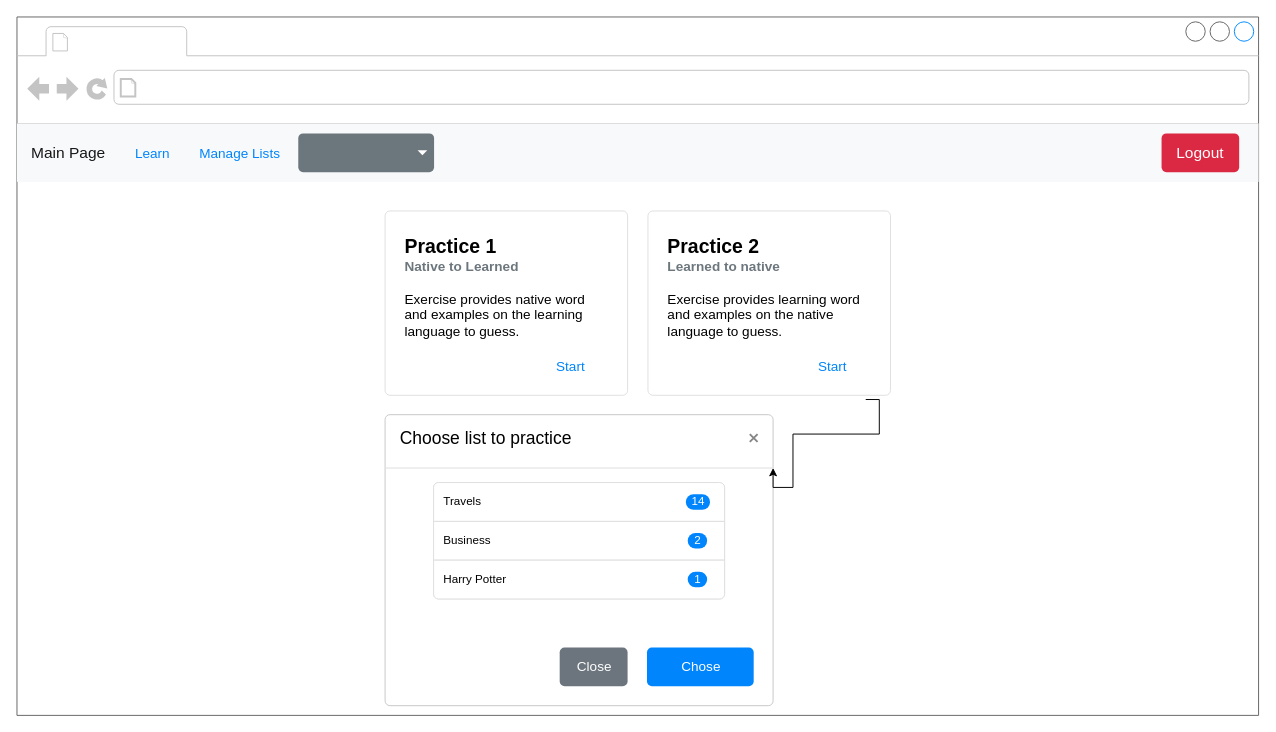
Some shapes in this 1276 by 732 pixel diagram are drawn without their labels. The shapes that lost their labels are listed below. From the top down, each one's box as (x1, y1, x2, y2) in pixels, then its label:
(74, 28, 182, 54): Learn Page
(142, 74, 386, 100): https://www.app.com/learn
(298, 133, 434, 172): ENG->UA
